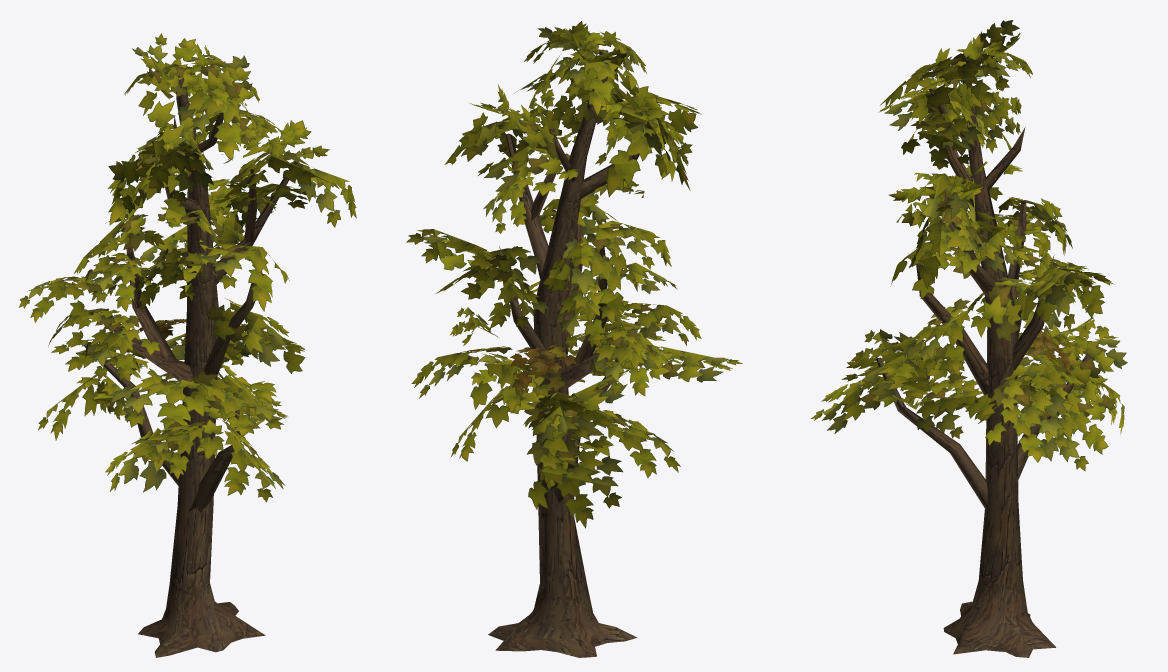
File: 2_Plant_Shu_03.FBX
3 views of the same model, side by side, from view 1: azimuth 30°, elevation 25°; view 2: azimuth 150°, elevation 25°; view 3: azimuth 270°, elevation 25° (orthographic). The views are drawn at different scales.
Visible parts, largest first — view 1: 2_Plant_Shu_03; view 2: 2_Plant_Shu_03; view 3: 2_Plant_Shu_03.
Boxes of the visible parts, x1=… form: 2_Plant_Shu_03: x1=19, y1=33, x2=356, y2=657; 2_Plant_Shu_03: x1=406, y1=21, x2=742, y2=657; 2_Plant_Shu_03: x1=811, y1=20, x2=1127, y2=657.
Bounding box in the file's own units: 526 × 1006 × 543.
3 materials, 3 textured.
